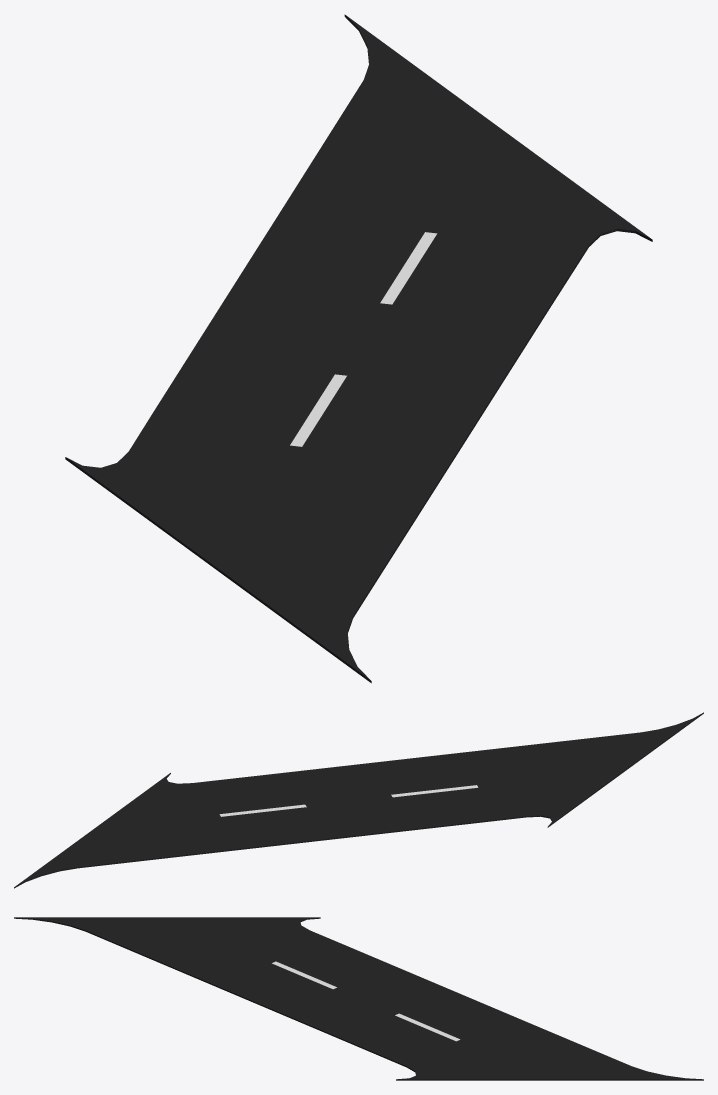
Rendered from LandingTrack5StraightAngled_AIRPORT_0.obj.
3 renders of one model, top to bottom at view 1: azimuth 30°, elevation 25°; view 2: azimuth 150°, elevation 25°; view 3: azimuth 270°, elevation 25°, orthographic. The views are drawn at different scales.
Parts seen in each view (by area): view 1: LandingTrack5StraightAngled_AIRPORT_0; view 2: LandingTrack5StraightAngled_AIRPORT_0; view 3: LandingTrack5StraightAngled_AIRPORT_0.
Boxes of the visible parts, x1,y1,x2,y2 form: LandingTrack5StraightAngled_AIRPORT_0: [65, 14, 652, 683]; LandingTrack5StraightAngled_AIRPORT_0: [14, 712, 703, 888]; LandingTrack5StraightAngled_AIRPORT_0: [14, 917, 703, 1080].
Bounding box in the file's own units: 197 × 0.7001 × 355.
1 material, 1 textured.
